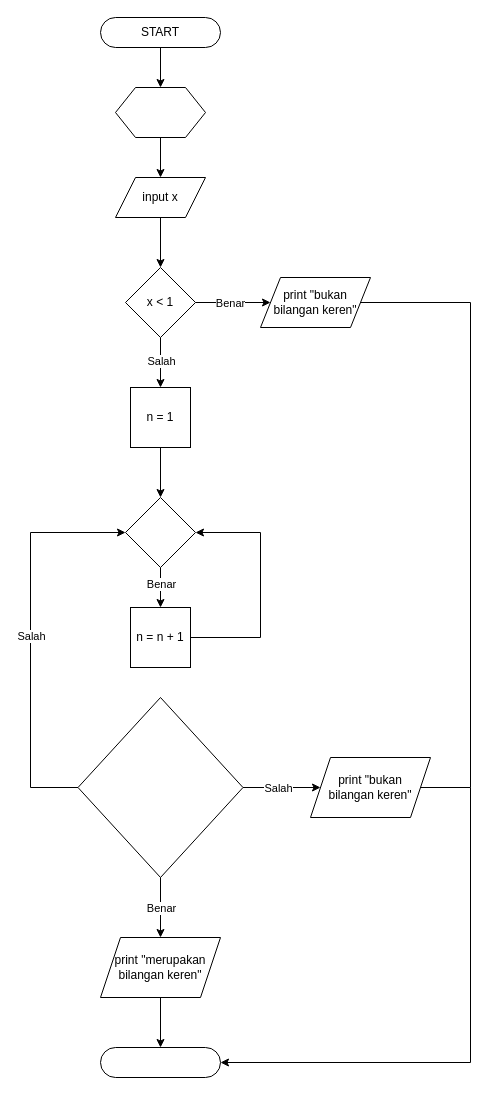
Image size: 496x1095. Some labels were removed from this diagram. The centre of each missing label's shape, as x and y in pixels:
End: the point at 160,1062
int x, n: the point at 160,112
x % max. 2 bilangan bulat positif selain 1 dan x == 0: the point at 160,787
x % n.i = 0: the point at 160,532
